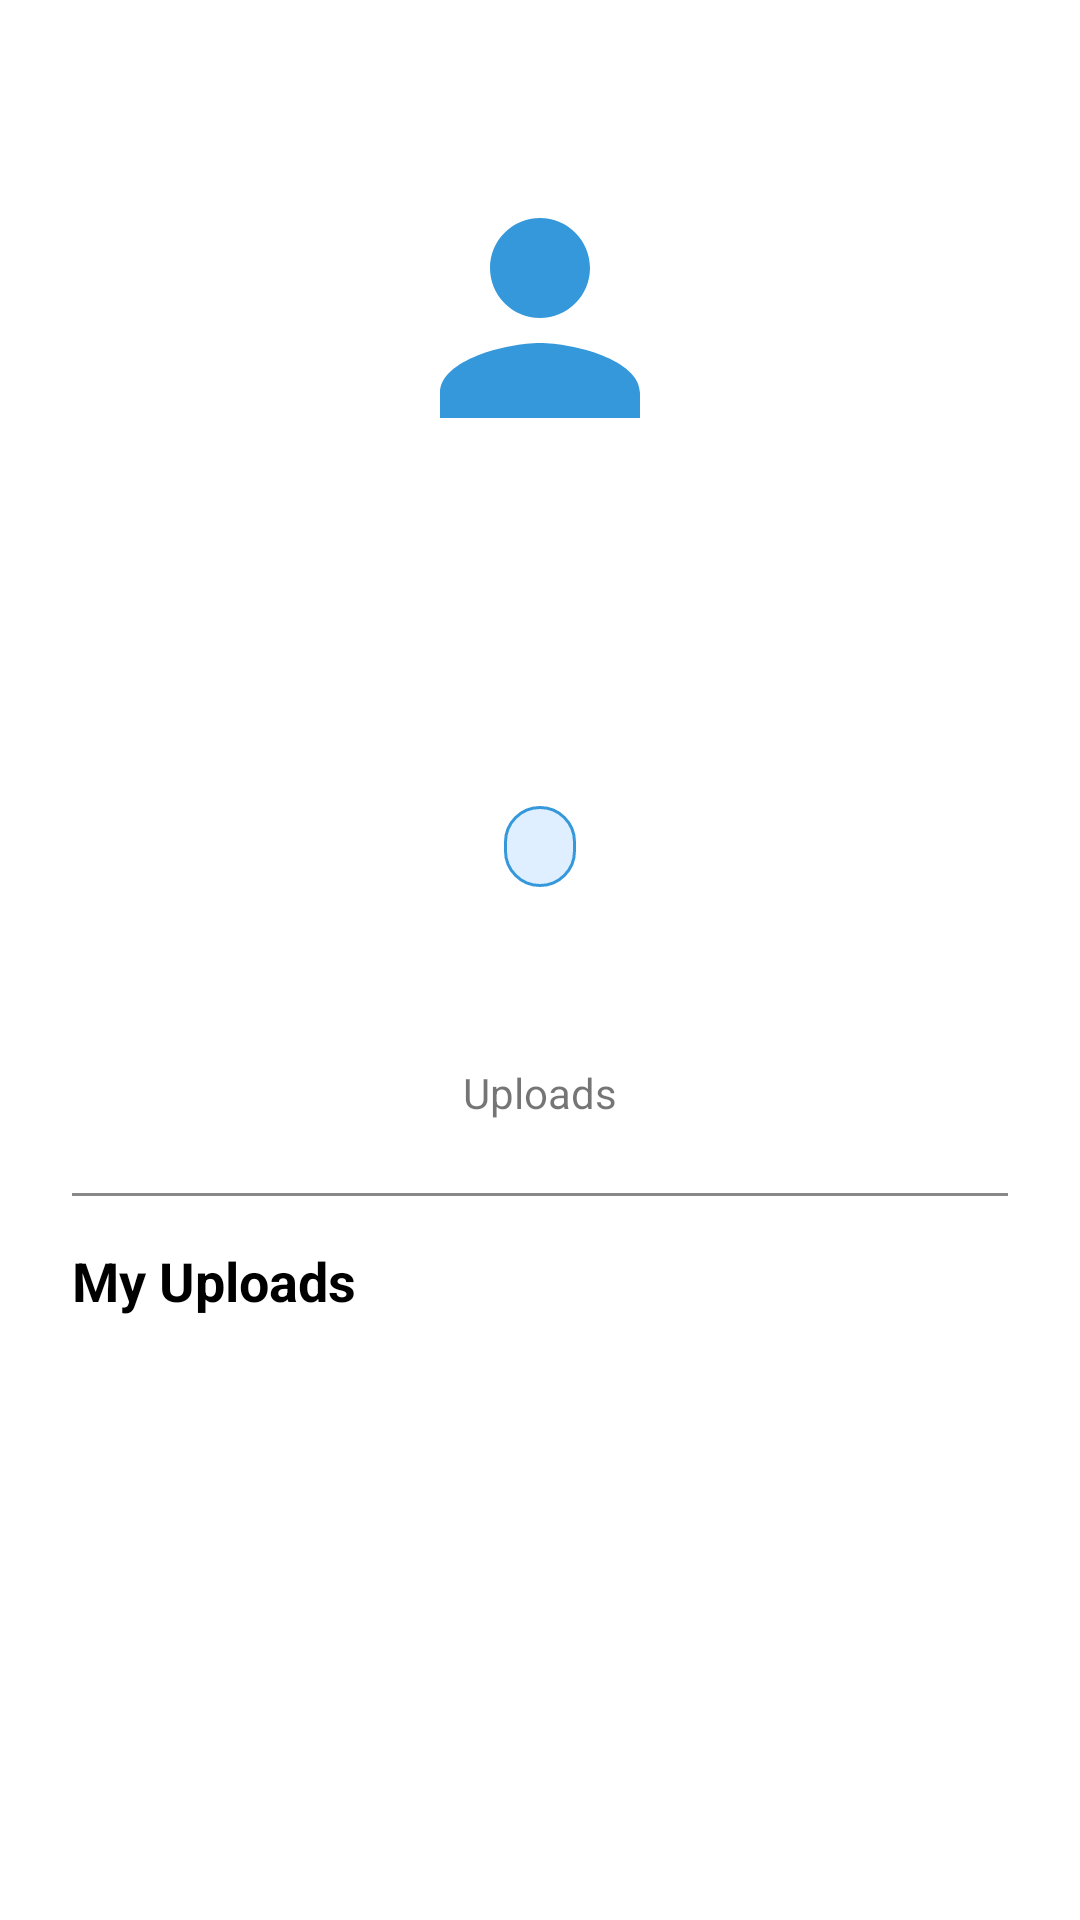

Icon click points for this 1080×1920 phone screenshot, format (x,y):
Profile Icon: (540,318)
